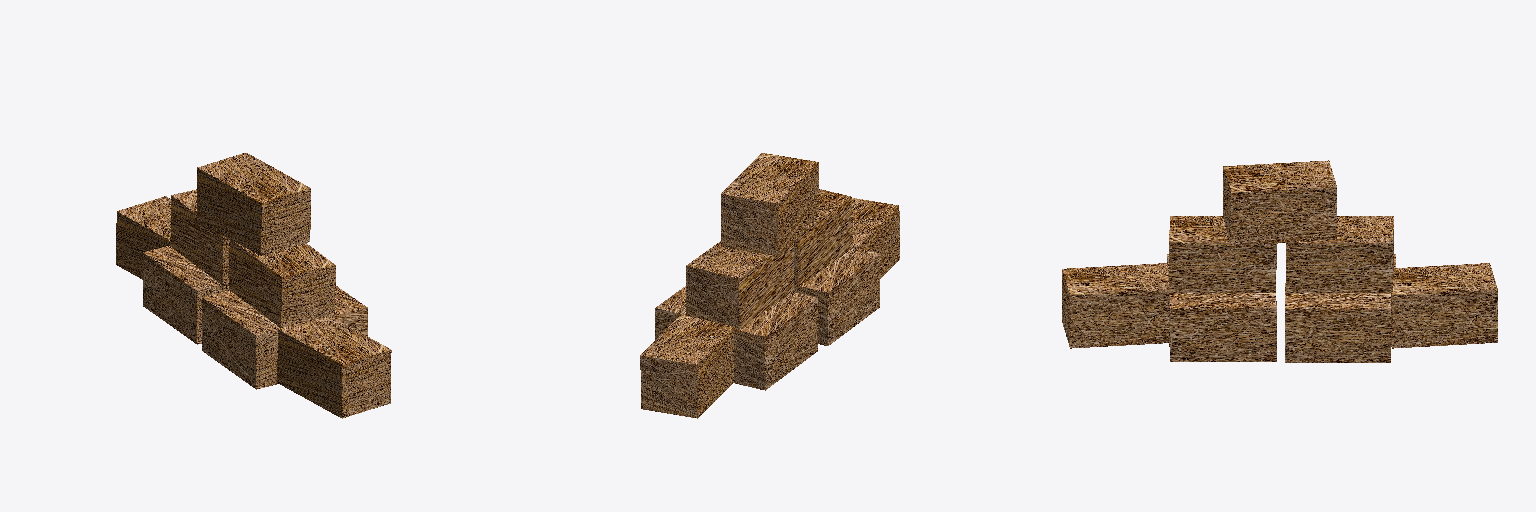
3 renders of one model, left to right at view 1: azimuth 30°, elevation 25°; view 2: azimuth 150°, elevation 25°; view 3: azimuth 270°, elevation 25°, orthographic.
Parts seen in each view (by area): view 1: Cube.006; view 2: Cube.006; view 3: Cube.006.
Part boxes in pixels (left/top/right/bottom): Cube.006: left=116, top=153, right=391, bottom=418; Cube.006: left=640, top=153, right=899, bottom=418; Cube.006: left=1062, top=160, right=1497, bottom=362.
Bounding box in the file's own units: 1.38 × 1.83 × 4.58.
Materials: 9 (1 with a texture image).